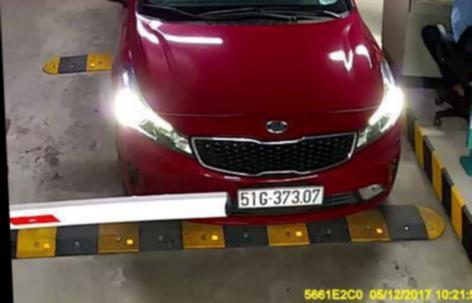License_Plate: (234, 184, 325, 213)
